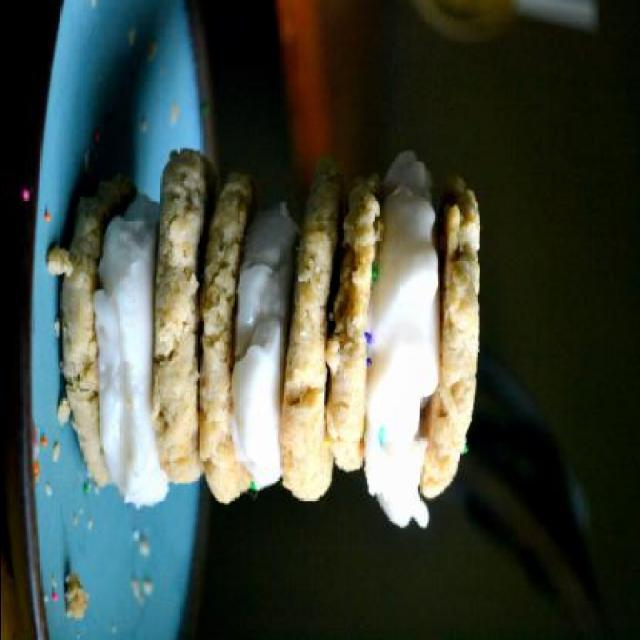Cookie: (56, 142, 484, 533)
